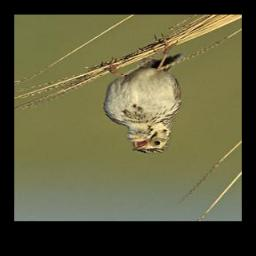Sparrow: (100, 33, 182, 155)
